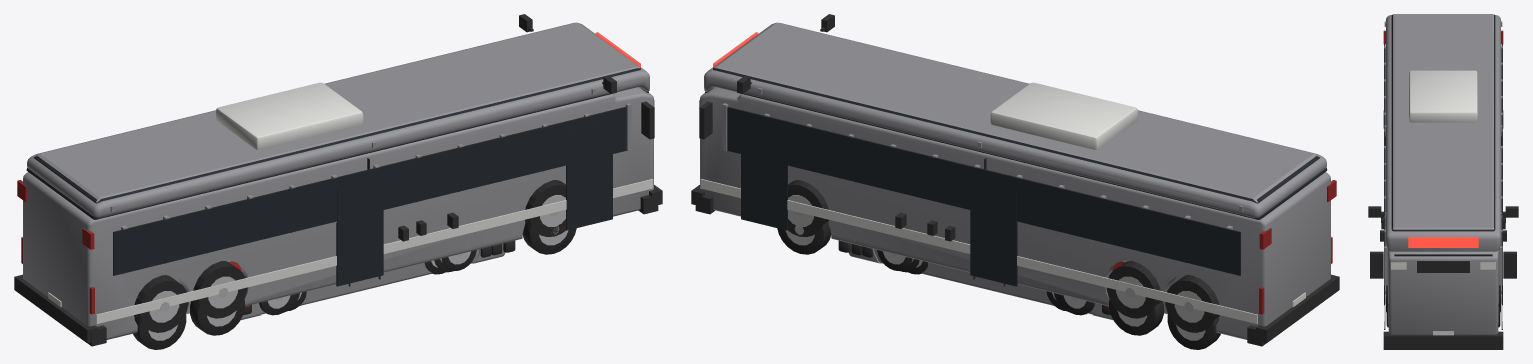
The model's file is vehicles.glb.
3 renders of one model, left to right at view 1: azimuth 30°, elevation 25°; view 2: azimuth 150°, elevation 25°; view 3: azimuth 270°, elevation 25°, orthographic. The views are drawn at different scales.
Visible parts, largest first — view 1: bus, bus_cab, van, rb, t.004, t.002, t, suv, pickup; view 2: bus, bus_cab, van, rb, t.003, t.005, t.001, suv, pickup; view 3: bus, bus_cab, fb, grille, mirror, mirror.001.
Part boxes in pixels (x1=…): bus: x1=21, y1=23, x2=658, y2=349; bus_cab: x1=26, y1=22, x2=640, y2=219; van: x1=226, y1=212, x2=515, y2=320; rb: x1=14, y1=274, x2=97, y2=343; t.004: x1=134, y1=275, x2=188, y2=332; t.002: x1=192, y1=261, x2=247, y2=318; t: x1=525, y1=180, x2=565, y2=236; suv: x1=243, y1=220, x2=491, y2=314; pickup: x1=255, y1=225, x2=502, y2=314; bus: x1=695, y1=23, x2=1332, y2=349; bus_cab: x1=713, y1=22, x2=1327, y2=219; van: x1=838, y1=212, x2=1127, y2=320; rb: x1=1256, y1=274, x2=1339, y2=343; t.003: x1=1106, y1=261, x2=1161, y2=318; t.005: x1=1165, y1=275, x2=1219, y2=332; t.001: x1=788, y1=180, x2=828, y2=236; suv: x1=862, y1=220, x2=1110, y2=314; pickup: x1=851, y1=225, x2=1098, y2=314; bus: x1=1370, y1=15, x2=1516, y2=349; bus_cab: x1=1391, y1=14, x2=1495, y2=231; fb: x1=1384, y1=332, x2=1502, y2=347; grille: x1=1417, y1=261, x2=1469, y2=272; mirror: x1=1368, y1=206, x2=1381, y2=217; mirror.001: x1=1505, y1=206, x2=1518, y2=217.
Size of the model in its own units: 11.78 by 3.45 by 3.27.
